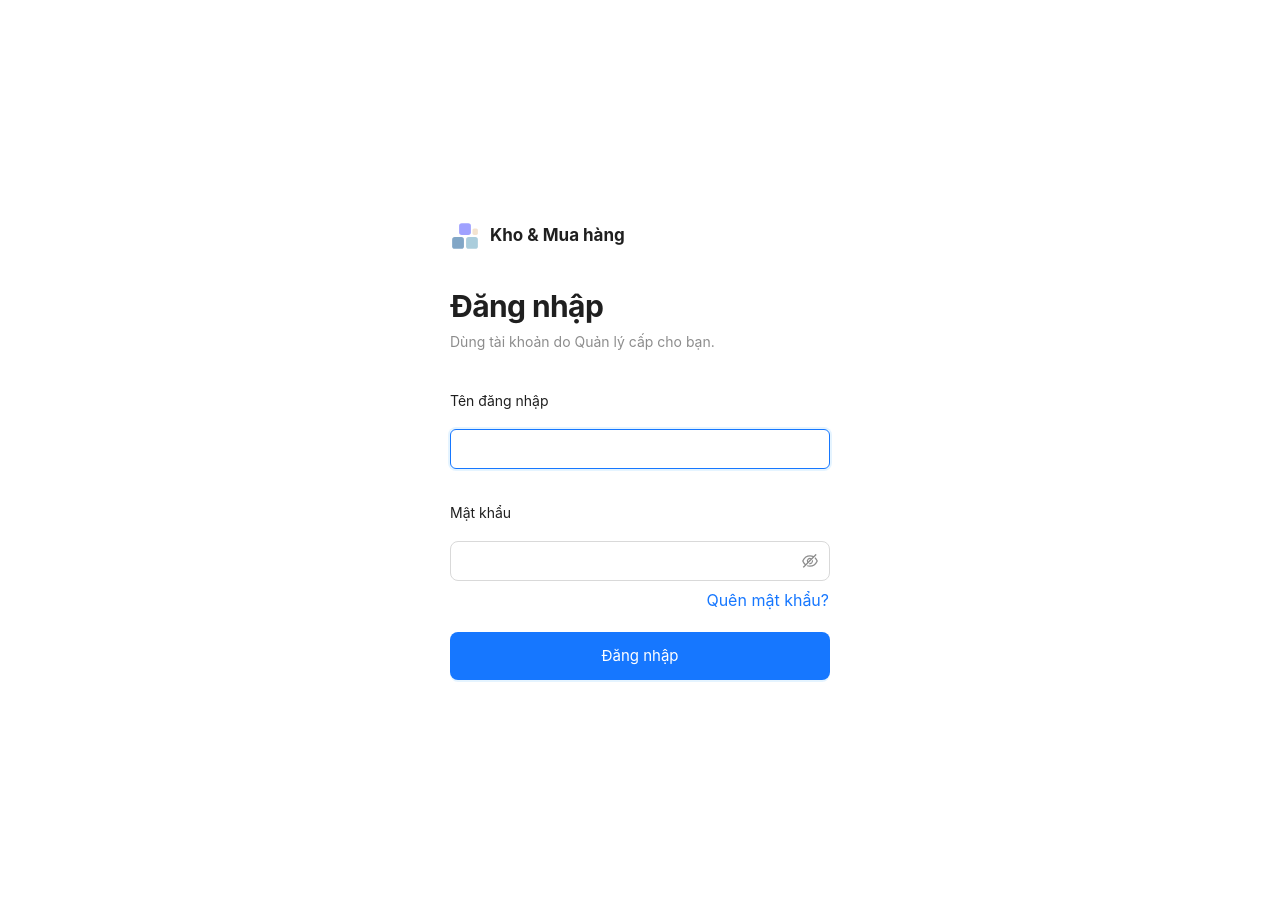
Scenario: Quên mật khẩu › bấm "Quên mật khẩu?" mở modal hướng dẫn và không gửi request mạng nào
Click the button "Quên mật khẩu?": (768, 600) [705,588,830,610]
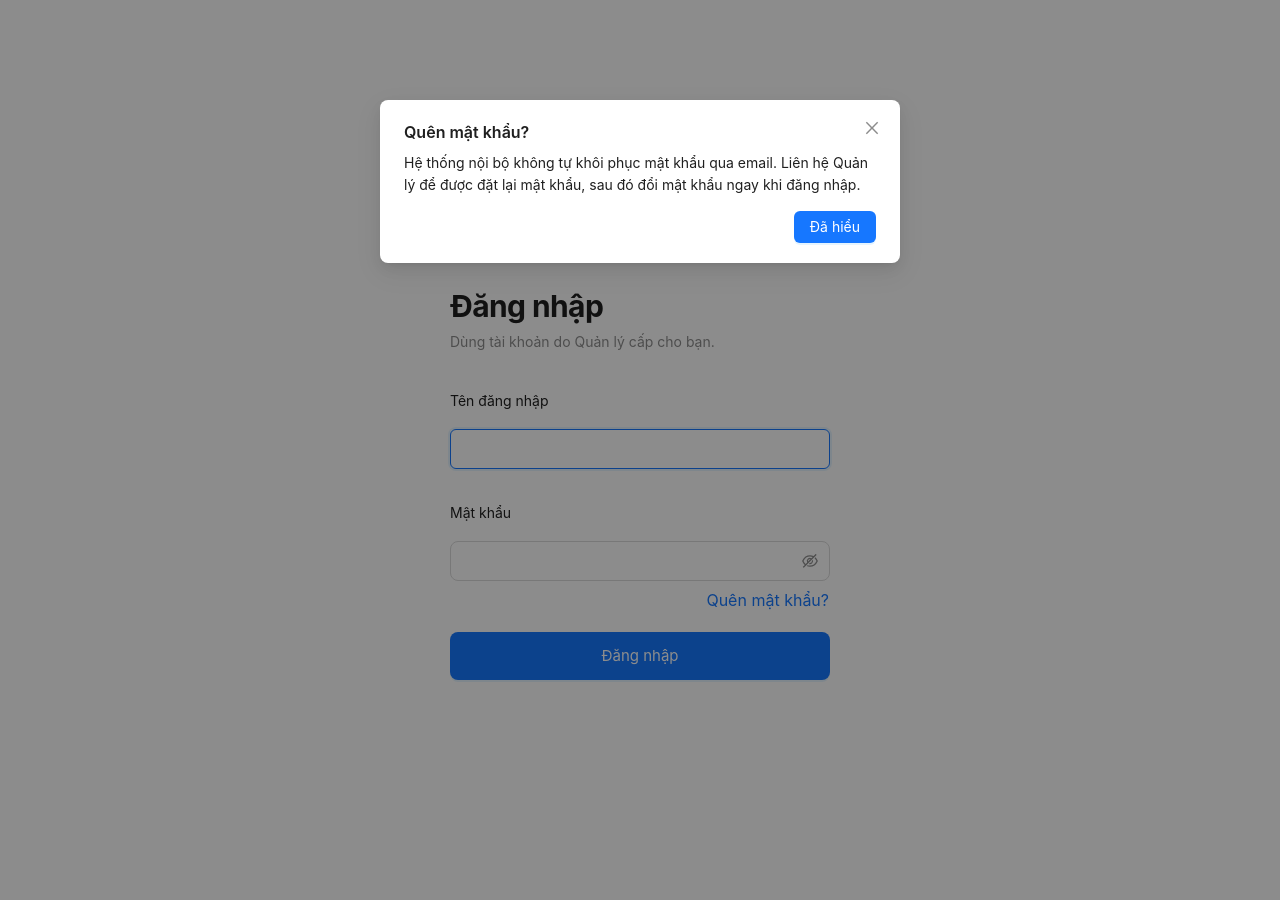
Check: the text "Liên hệ Quản lý để được đặt lại mật khẩu" is shown, box [404,154,868,193]
